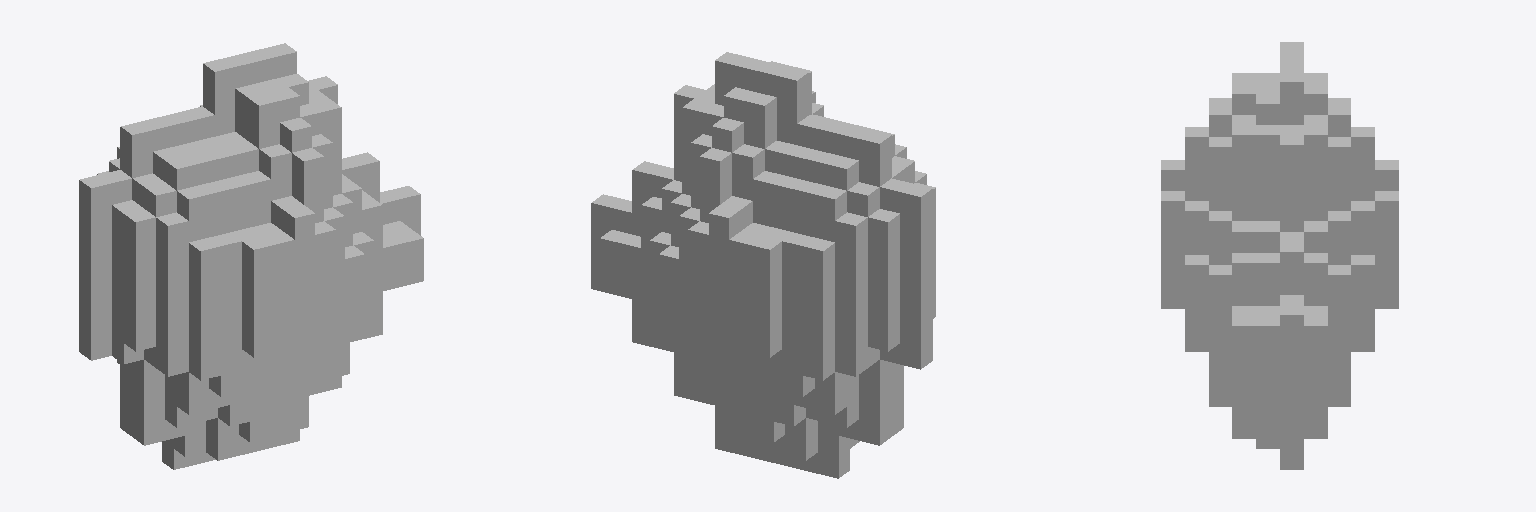
The model's file is Gold Nugget.obj.
3 renders of one model, left to right at view 1: azimuth 30°, elevation 25°; view 2: azimuth 150°, elevation 25°; view 3: azimuth 270°, elevation 25°, orthographic.
Visible parts, largest first — view 1: object 1; view 2: object 1; view 3: object 1.
Part boxes in pixels (x1,y1,x2,y2): object 1: (79, 43, 423, 469); object 1: (591, 52, 935, 478); object 1: (1161, 42, 1398, 469).
Bounding box in the file's own units: 1.6 × 1.8 × 1.